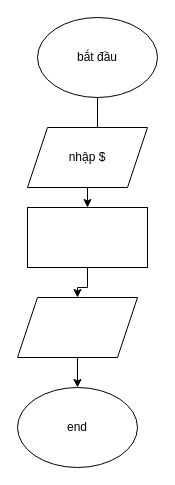
This 175x485 diagram has some shape labels left out. Each missing label, with the centre of its shape:
"vnd" goes at [77,327].
"VND= $ * 23000" goes at [87,237].
